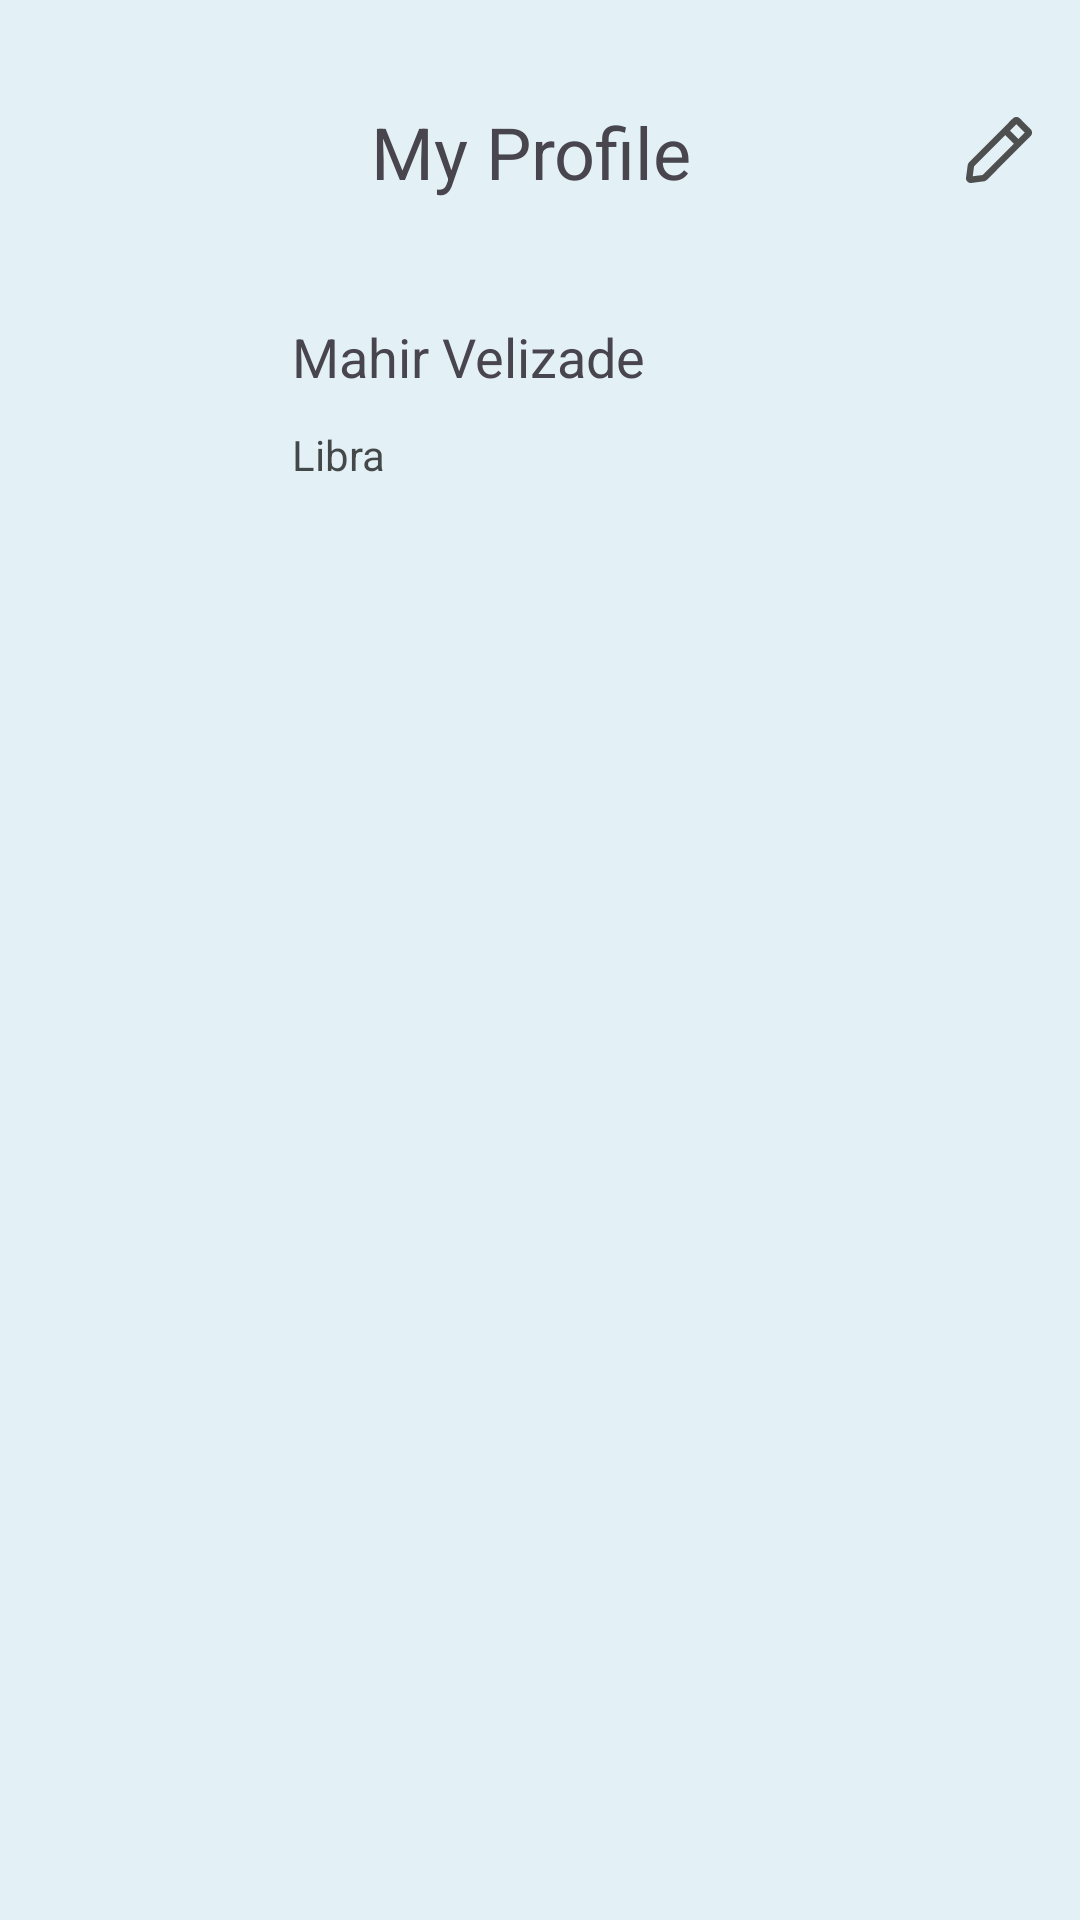

Icons on this 1080×1920 Android screen, each with the point to tap as (x,y):
editicon: (999,150)
